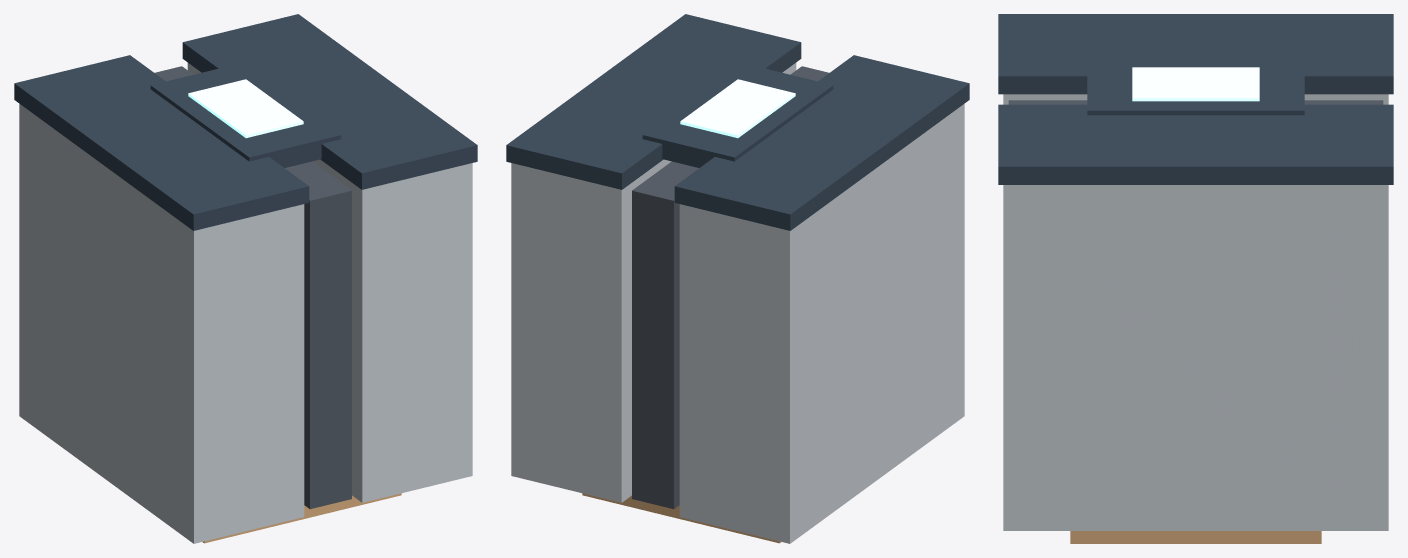
Rendered from cooler.glb.
3 views of the same model, side by side, from view 1: azimuth 30°, elevation 25°; view 2: azimuth 150°, elevation 25°; view 3: azimuth 270°, elevation 25° (orthographic). The views are drawn at different scales.
Visible parts, largest first — view 1: Tower_Front, Tower_Back, Top_Plate_Front, Top_Plate_Back, Center_Fan_Frame, LCD_Display_Unit, LCD_Temp_Digits_52C, Base_Plate; view 2: Tower_Front, Tower_Back, Top_Plate_Front, Top_Plate_Back, Center_Fan_Frame, LCD_Display_Unit, LCD_Temp_Digits_52C, Base_Plate; view 3: Tower_Back, Top_Plate_Back, Top_Plate_Front, LCD_Display_Unit, LCD_Temp_Digits_52C, Base_Plate, Tower_Front, Center_Fan_Frame.
Part boxes in pixels (x1=…): Tower_Front: x1=19, y1=104, x2=304, y2=543; Tower_Back: x1=187, y1=63, x2=472, y2=502; Top_Plate_Front: x1=14, y1=55, x2=309, y2=230; Top_Plate_Back: x1=182, y1=14, x2=477, y2=189; Center_Fan_Frame: x1=155, y1=66, x2=351, y2=509; LCD_Display_Unit: x1=150, y1=63, x2=341, y2=167; LCD_Temp_Digits_52C: x1=188, y1=79, x2=303, y2=138; Base_Plate: x1=203, y1=493, x2=401, y2=543; Tower_Front: x1=679, y1=104, x2=964, y2=543; Tower_Back: x1=511, y1=63, x2=796, y2=502; Top_Plate_Front: x1=674, y1=55, x2=969, y2=230; Top_Plate_Back: x1=506, y1=14, x2=801, y2=189; Center_Fan_Frame: x1=632, y1=66, x2=828, y2=509; LCD_Display_Unit: x1=642, y1=63, x2=833, y2=167; LCD_Temp_Digits_52C: x1=680, y1=79, x2=795, y2=138; Base_Plate: x1=582, y1=493, x2=780, y2=543; Tower_Back: x1=1003, y1=185, x2=1388, y2=530; Top_Plate_Back: x1=998, y1=104, x2=1393, y2=184; Top_Plate_Front: x1=998, y1=14, x2=1393, y2=94; LCD_Display_Unit: x1=1087, y1=61, x2=1304, y2=115; LCD_Temp_Digits_52C: x1=1132, y1=67, x2=1259, y2=101; Base_Plate: x1=1070, y1=531, x2=1321, y2=543; Tower_Front: x1=1003, y1=94, x2=1388, y2=104; Center_Fan_Frame: x1=1008, y1=100, x2=1383, y2=104.
Bounding box in the file's own units: 1.08 × 1.34 × 1.18.
